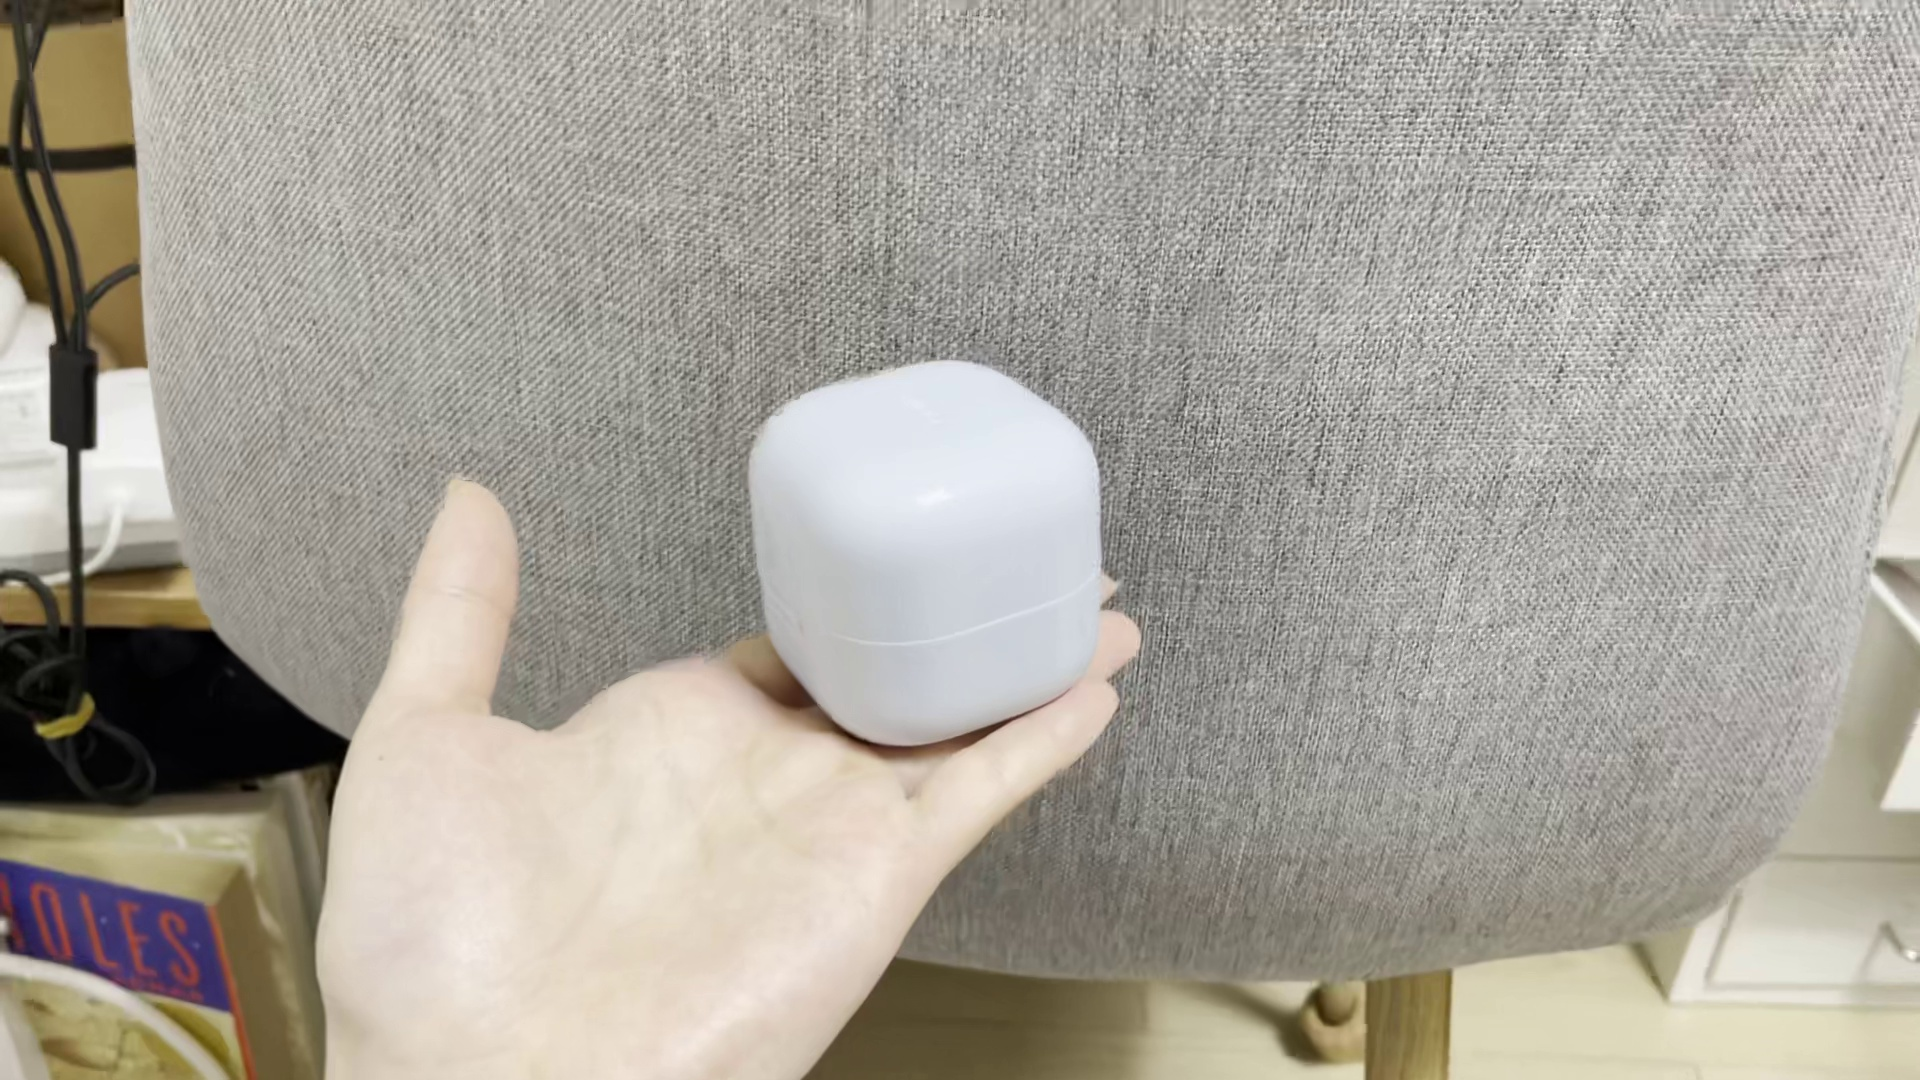cream: (746, 363, 1102, 742)
